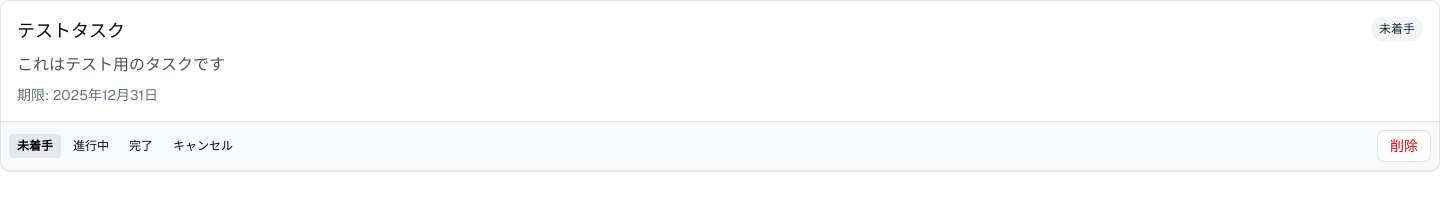
Test: TaskItem Component › shows error message when task delete fails
Click the button "削除". click: (1404, 146)
box: x1=1377 y1=130 x2=1431 y2=162
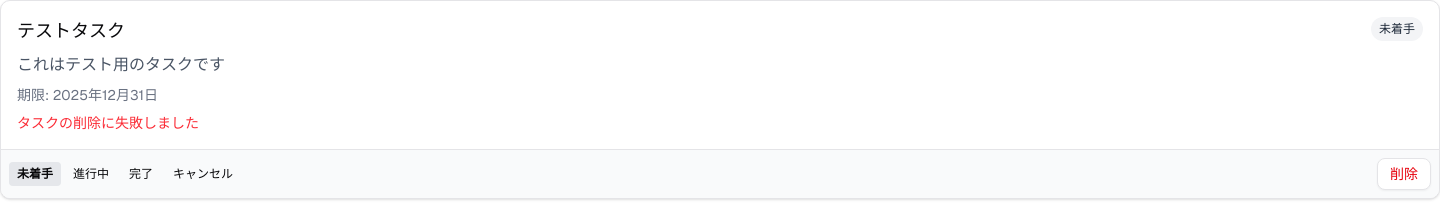
Check: the text "タスクの削除に失敗しました" is shown, box x1=17 y1=114 x2=199 y2=132
